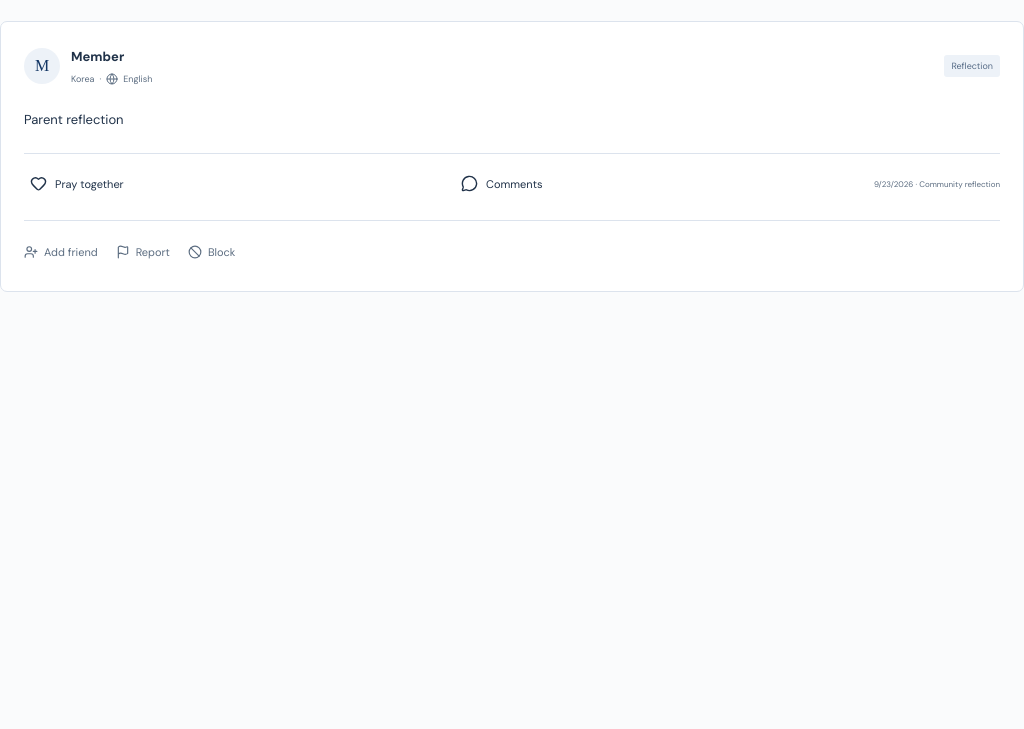
Test: loads replies for the selected parent without adding nested reply controls
The image size is (1024, 729).
Click the button "Comments": (502, 184) [455,162,548,204]
(page scrolled)
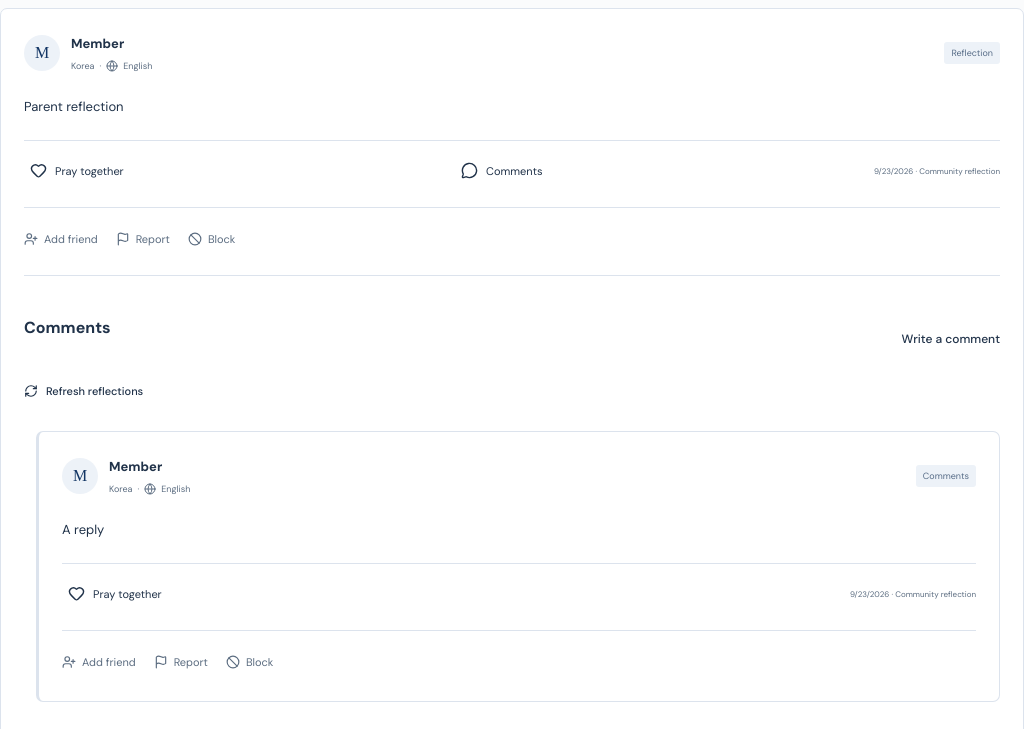
expect the element that starts with "Refresh reflections" shows "A reply": met, box [62,521,104,538]
